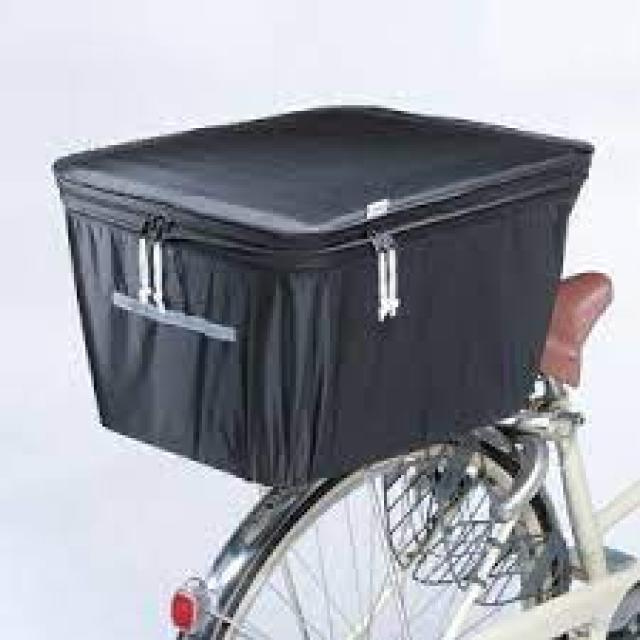basket: (47, 104, 593, 483)
